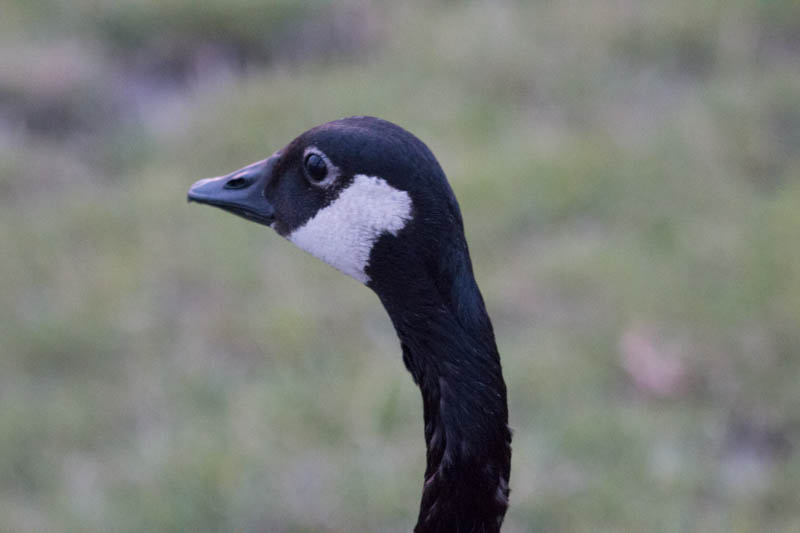goose-head: (186, 114, 463, 297)
